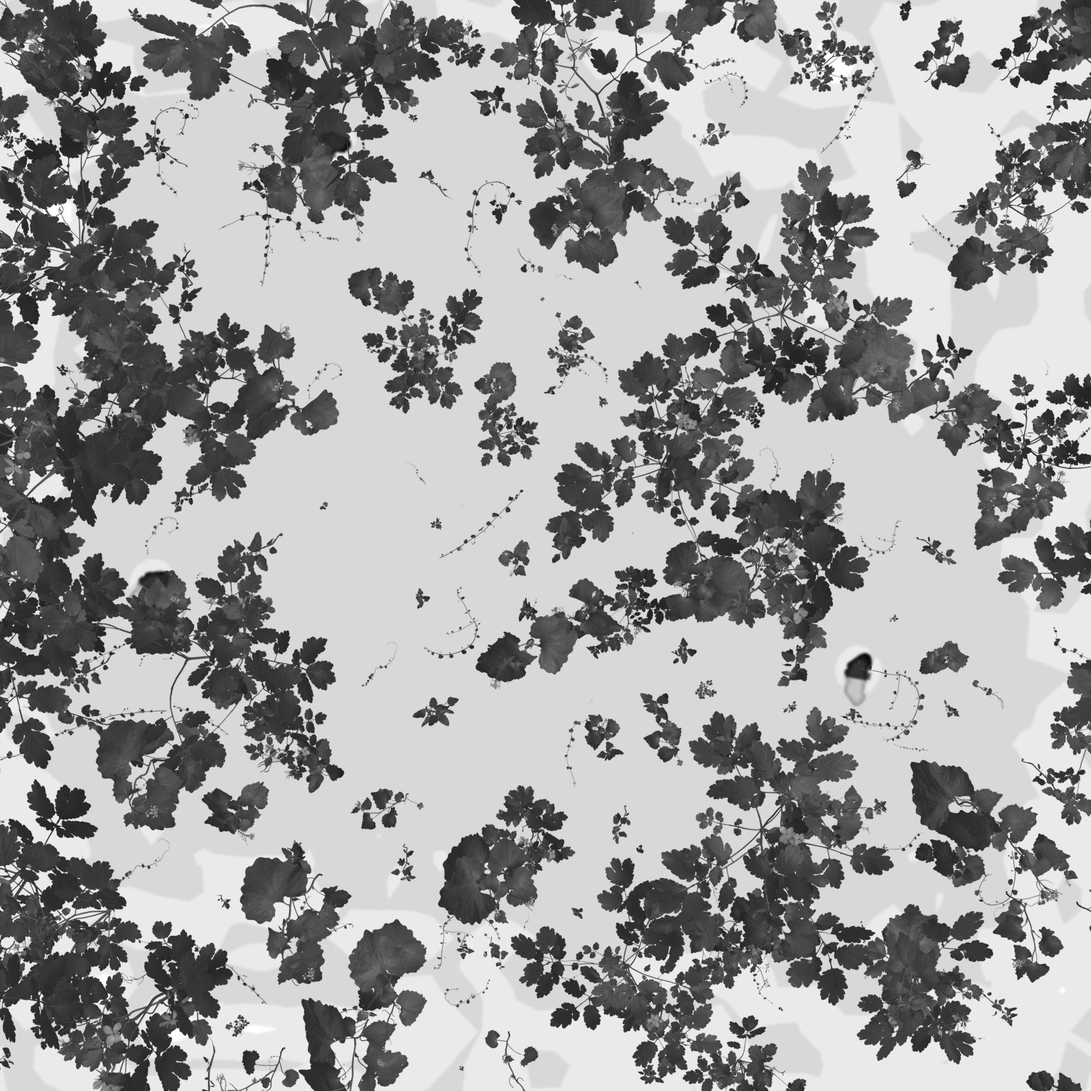landmine: (839, 651, 877, 711)
